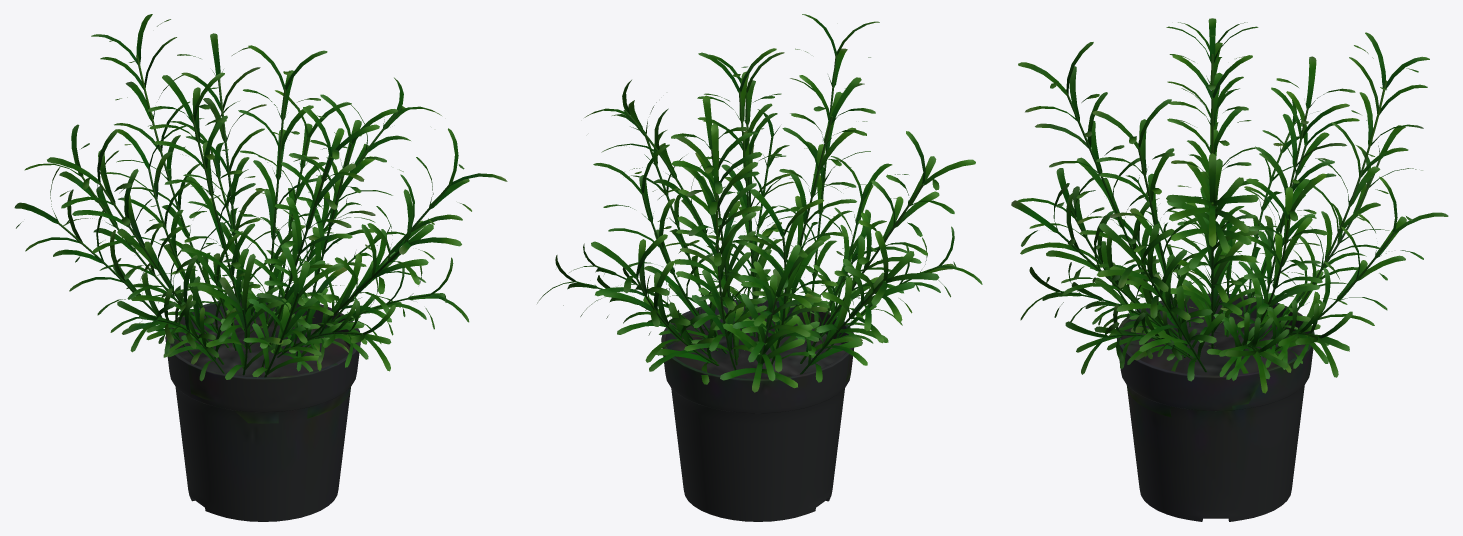
Rendered from fejka_sztuczna_roslina_doniczkowa_80610747.glb.
3 views of the same model, side by side, from view 1: azimuth 30°, elevation 25°; view 2: azimuth 150°, elevation 25°; view 3: azimuth 270°, elevation 25° (orthographic). The views are drawn at different scales.
Visible parts, largest first — view 1: fejka_sztuczna_roslina_doniczkowa_80610747; view 2: fejka_sztuczna_roslina_doniczkowa_80610747; view 3: fejka_sztuczna_roslina_doniczkowa_80610747.
Boxes of the visible parts, x1,y1,x2,y2 form: fejka_sztuczna_roslina_doniczkowa_80610747: [14, 14, 507, 521]; fejka_sztuczna_roslina_doniczkowa_80610747: [537, 14, 982, 521]; fejka_sztuczna_roslina_doniczkowa_80610747: [1011, 18, 1448, 521].
Size of the model in its own units: 0.2246 by 0.2252 by 0.2039.
1 material, 1 textured.
